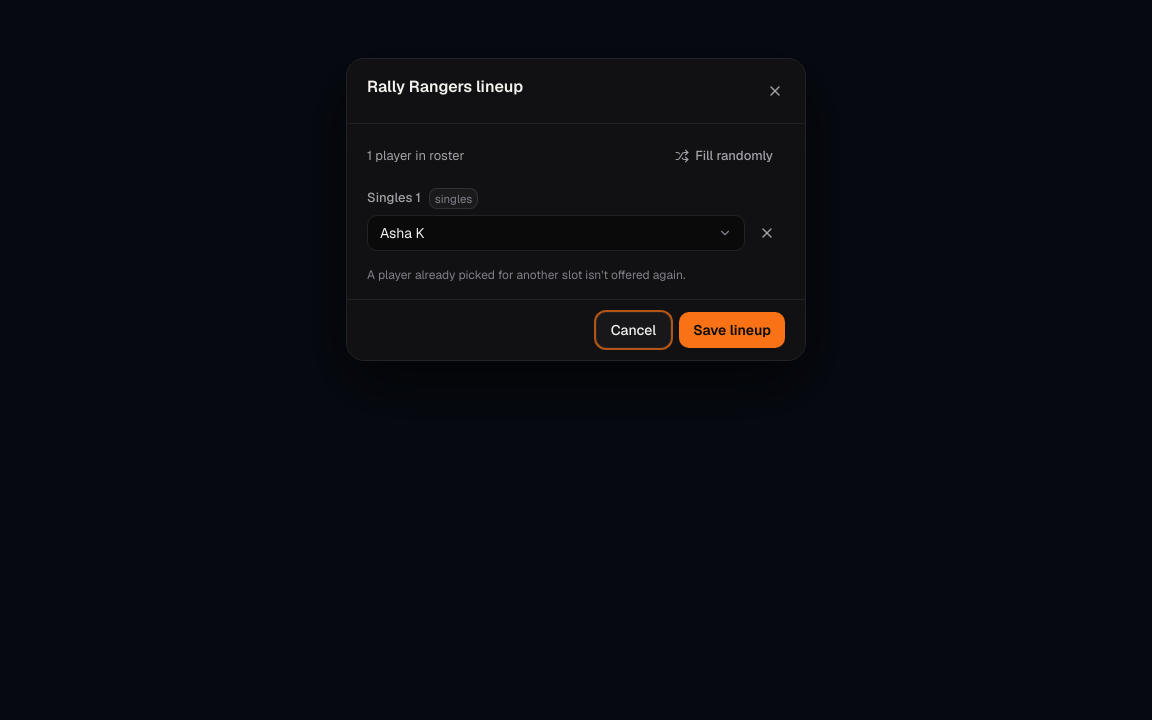
Scenario: LineupAssignmentModal › clears a picked player with its own labelled button
Expected: the dropdown named "Singles 1" reads "Asha K", [367, 215, 745, 251]
Click the button named "Clear Singles 1".
click(767, 233)  # box [749, 215, 785, 251]
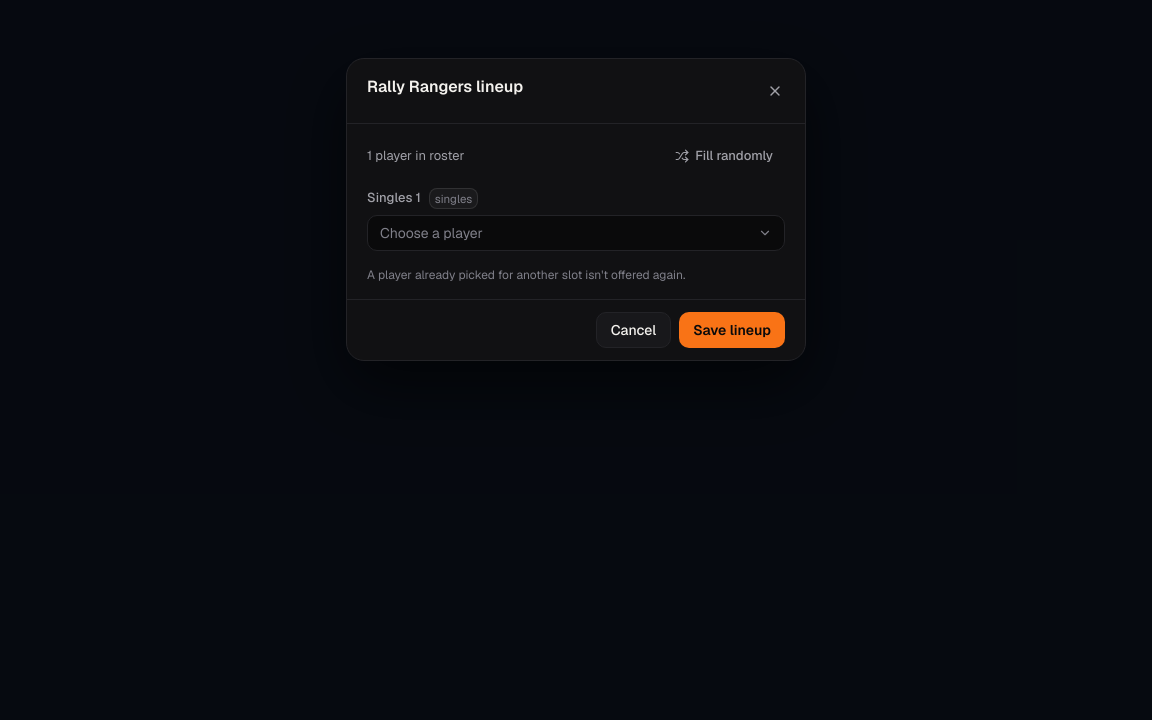
Expected: the dropdown named "Singles 1" reads "Choose a player", [367, 215, 785, 251]
